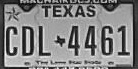1: (116, 24, 131, 57)
4: (83, 24, 98, 56), (67, 24, 81, 56)
6: (100, 25, 114, 57)
C: (5, 25, 19, 57)
D: (21, 25, 35, 58)
L: (37, 25, 52, 57)
